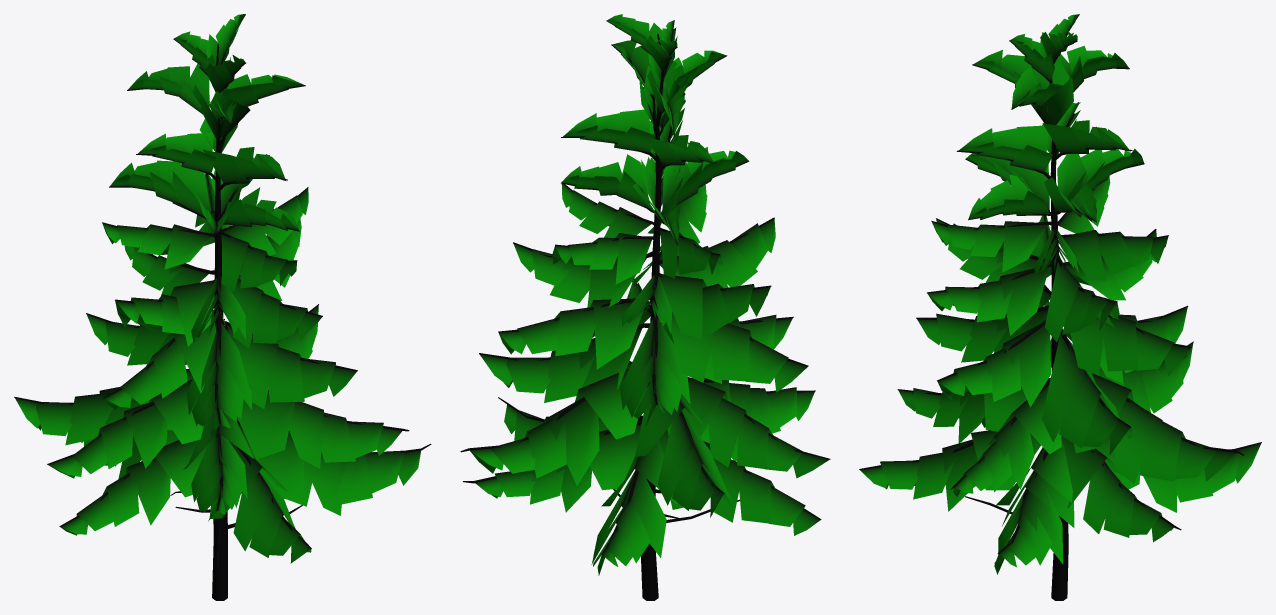
File: IL3DN_Tree_Pine_02_OneMesh.FBX
3 views of the same model, side by side, from view 1: azimuth 30°, elevation 25°; view 2: azimuth 150°, elevation 25°; view 3: azimuth 270°, elevation 25° (orthographic).
Visible parts, largest first — view 1: IL3DN_Tree_Pine_02_LOD0; view 2: IL3DN_Tree_Pine_02_LOD0; view 3: IL3DN_Tree_Pine_02_LOD0.
Boxes of the visible parts, x1,y1,x2,y2 form: IL3DN_Tree_Pine_02_LOD0: [14, 14, 431, 600]; IL3DN_Tree_Pine_02_LOD0: [460, 14, 830, 600]; IL3DN_Tree_Pine_02_LOD0: [859, 14, 1261, 600].
Size of what is drawn, in the model's own units: 218 by 336 by 212.
